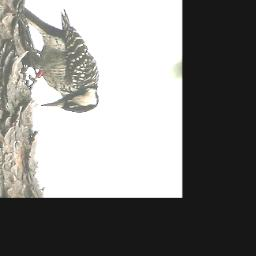Woodpecker: (18, 7, 99, 113)
